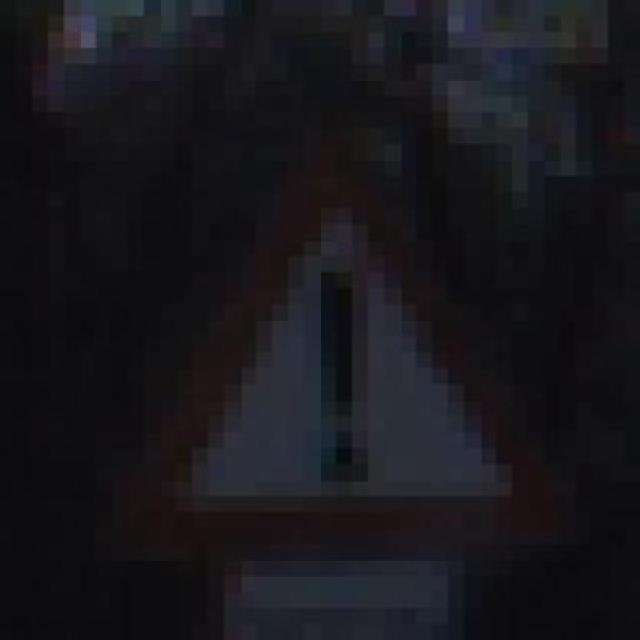Attention Please-: (112, 112, 576, 560)
